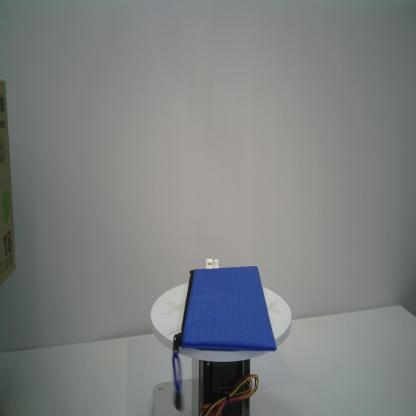Stationery: (172, 266, 277, 411)
